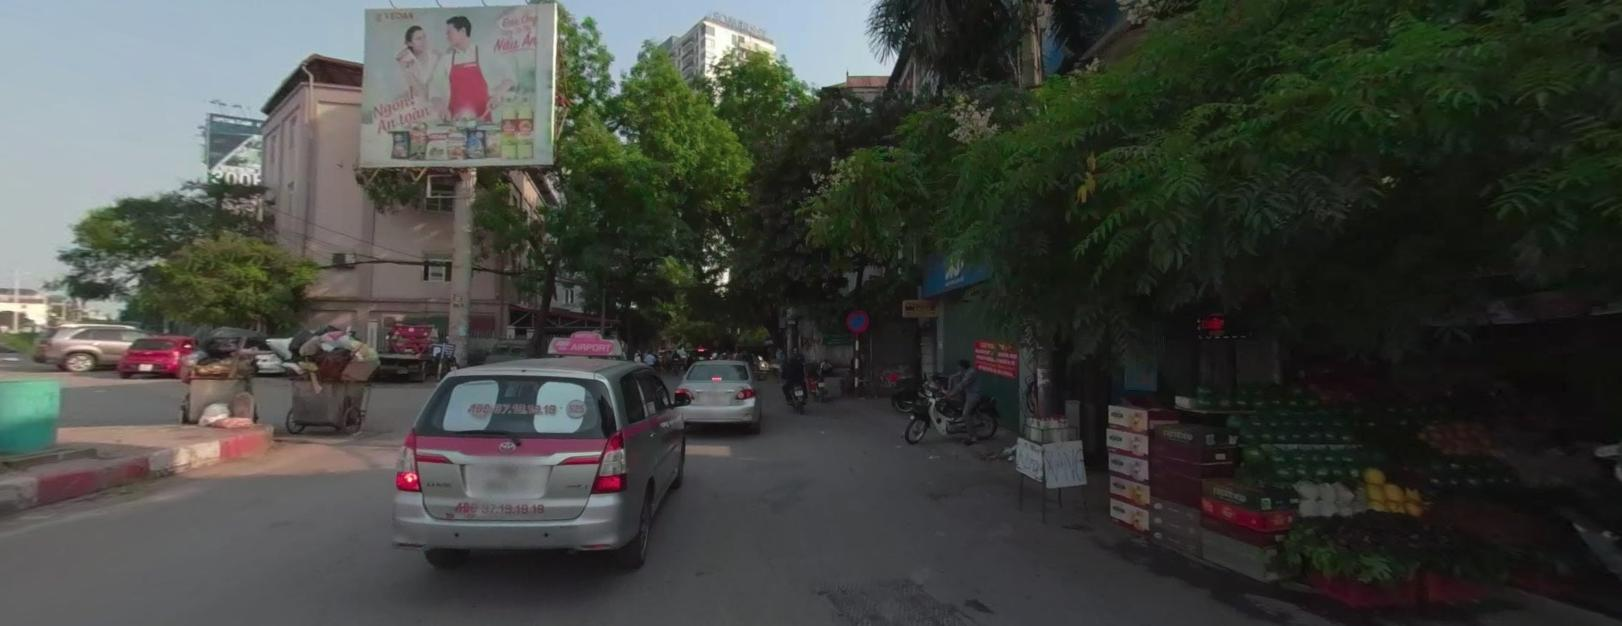Cam dung va do: (847, 309, 868, 330)
